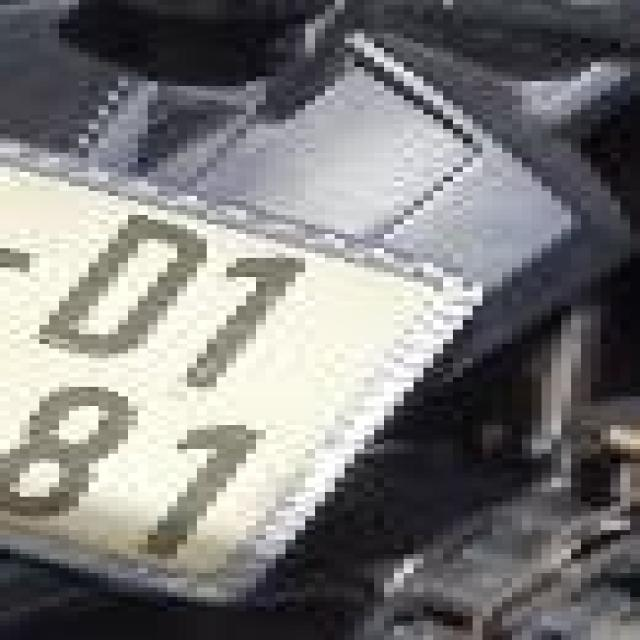1: (137, 238, 334, 406), (113, 403, 292, 564)
8: (0, 369, 193, 541)
D: (6, 192, 268, 376)
